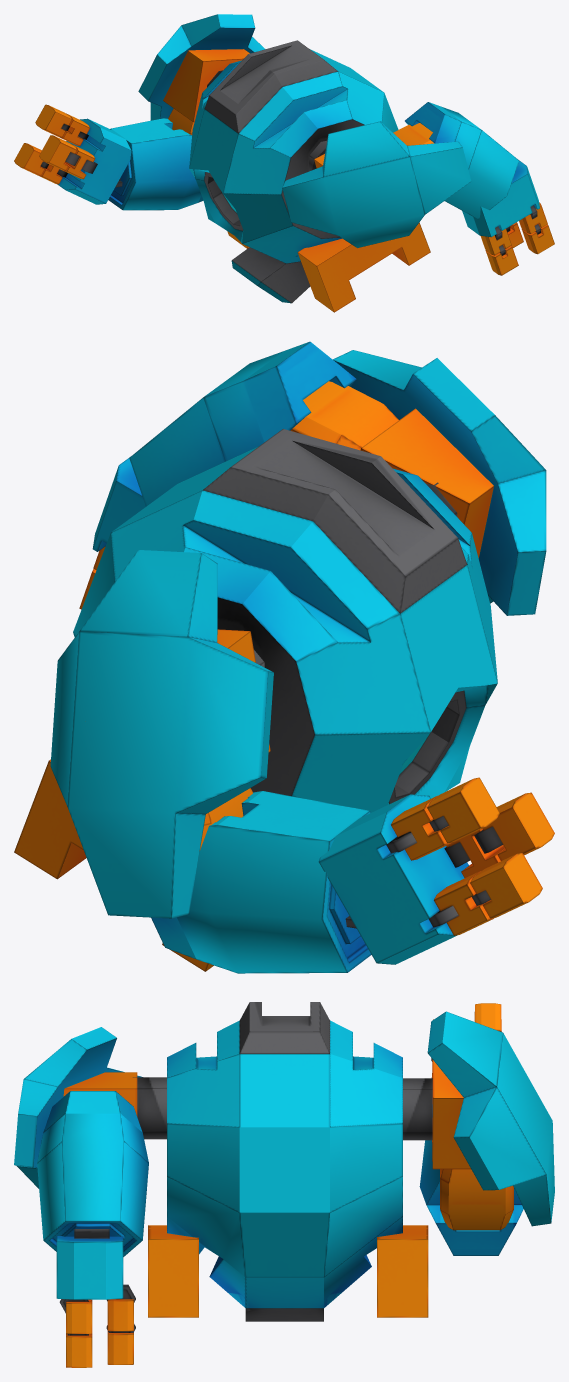
The model's file is Body_Running18.obj.
3 views of the same model, one above another, from view 1: azimuth 30°, elevation 25°; view 2: azimuth 150°, elevation 25°; view 3: azimuth 270°, elevation 25° (orthographic). The views are drawn at different scales.
Parts seen in each view (by area): view 1: Plane001, Object006, Object002, Object004, Object003, Object007, Object008; view 2: Plane001, Object002, Object006, Object004, Object003, Object007, Object008; view 3: Plane001, Object002, Object007, Object008, Object006, Object003, Object001, Object005, Object004.
Part boxes in pixels (<box>): Plane001: <box>189,40,430,312</box>; Object006: <box>282,121,471,247</box>; Object002: <box>138,14,265,134</box>; Object004: <box>14,104,131,204</box>; Object003: <box>108,118,203,210</box>; Object007: <box>405,102,519,219</box>; Object008: <box>462,160,554,275</box>; Plane001: <box>14,429,497,971</box>; Object002: <box>50,550,273,918</box>; Object006: <box>290,350,546,615</box>; Object004: <box>318,777,554,964</box>; Object003: <box>151,791,371,973</box>; Object007: <box>129,341,356,506</box>; Object008: <box>79,456,145,609</box>; Plane001: <box>148,1002,428,1321</box>; Object002: <box>427,1011,554,1230</box>; Object007: <box>37,1091,148,1256</box>; Object008: <box>56,1229,135,1367</box>; Object006: <box>14,1027,142,1188</box>; Object003: <box>419,1140,523,1255</box>; Object001: <box>403,1078,432,1140</box>; Object005: <box>133,1077,166,1139</box>; Object004: <box>431,1003,501,1077</box>.
Bounding box in the file's own units: 196 × 116 × 182.
